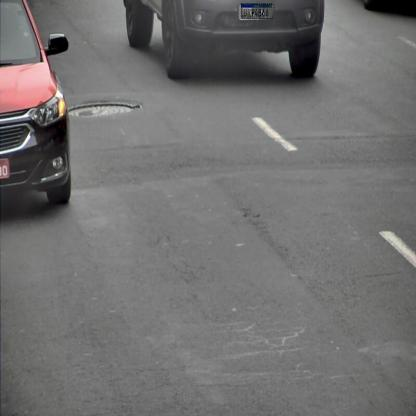PlacaM: (241, 3, 272, 19)
